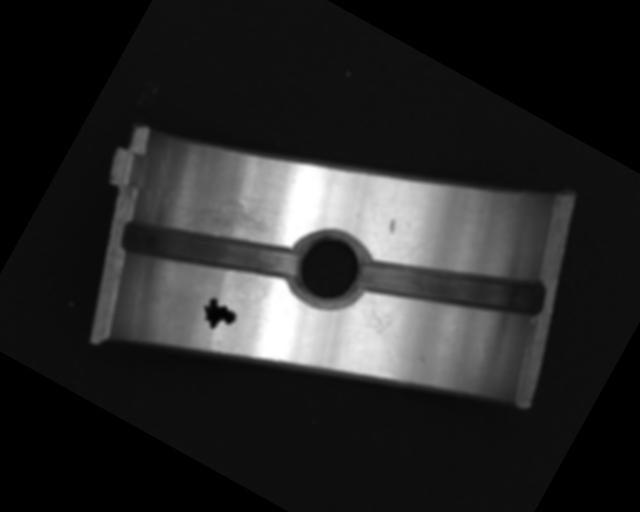blot: (193, 293, 241, 338)
bruise: (383, 217, 399, 235)
gap: (355, 206, 549, 367), (115, 177, 303, 328)
hole: (278, 222, 376, 321)
scratch: (168, 171, 286, 269)
